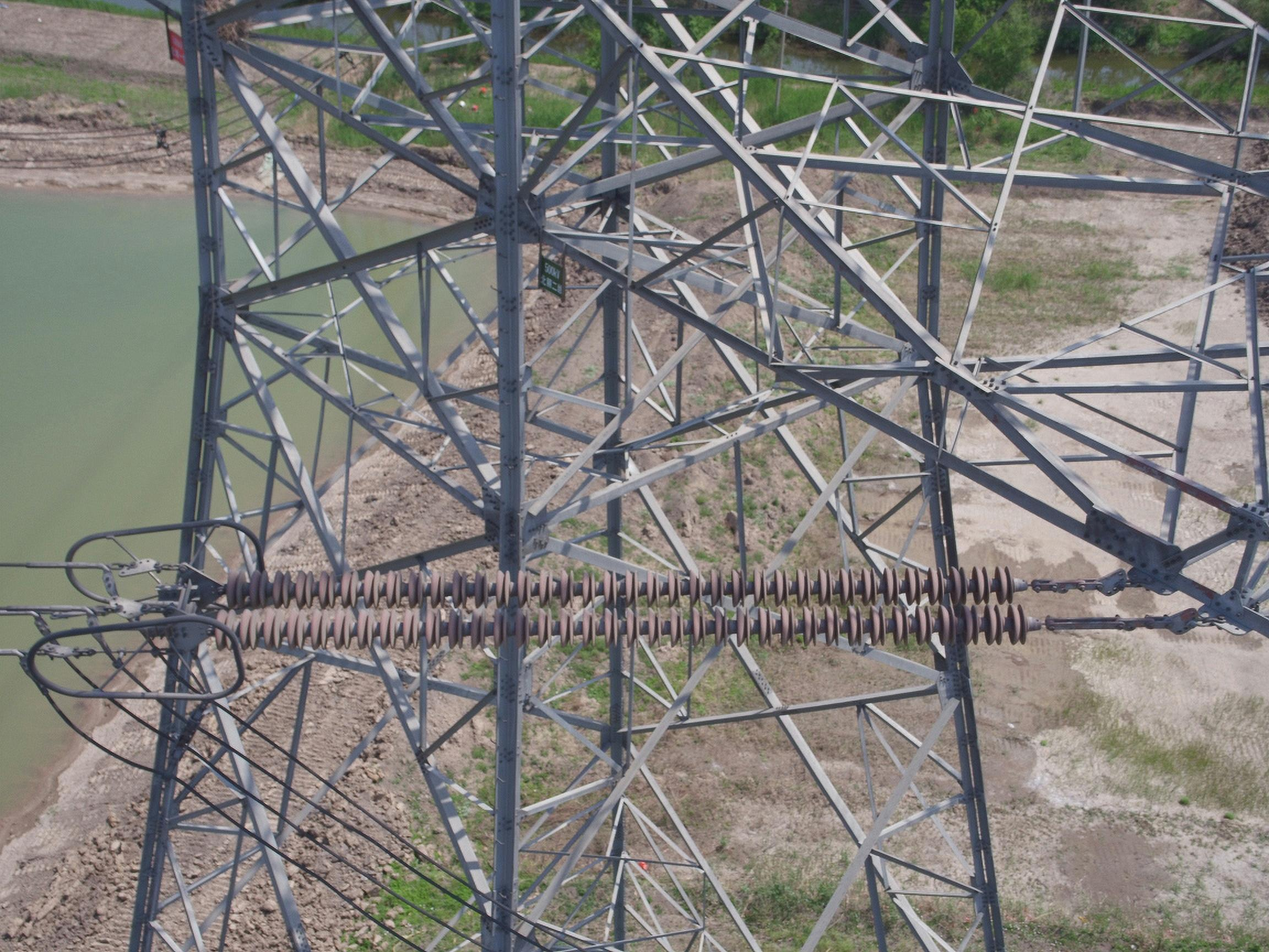insulator: (207, 558, 1032, 658)
